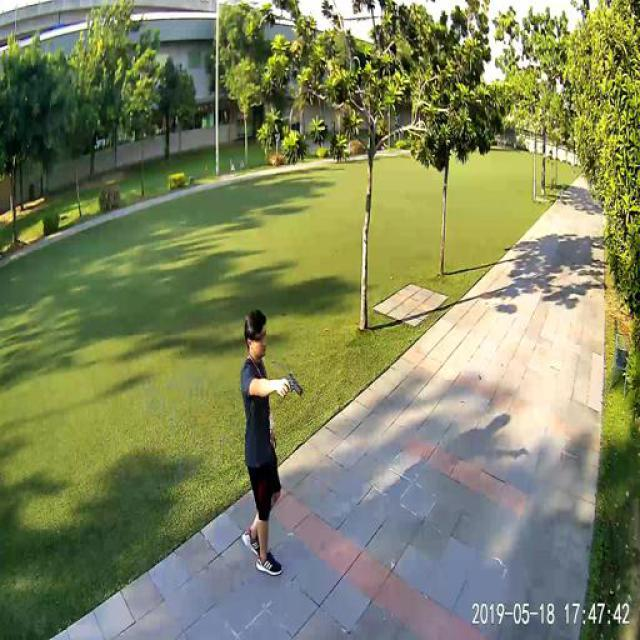Gun: (285, 368, 301, 398)
